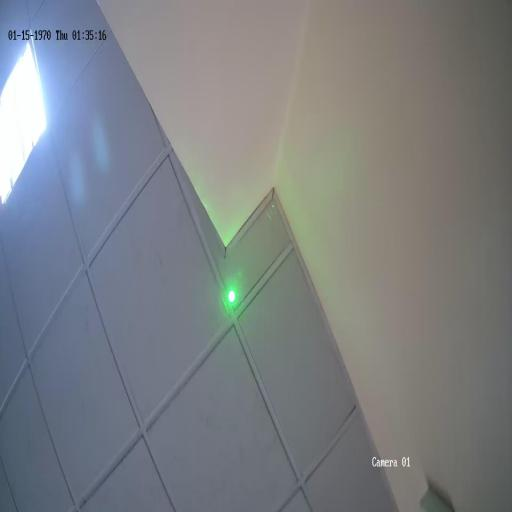laser: (219, 274, 244, 322)
